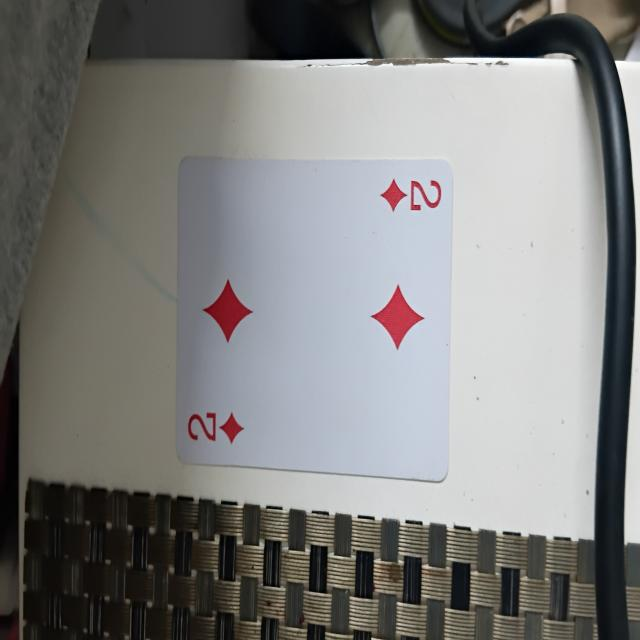2D: (175, 151, 453, 488)
